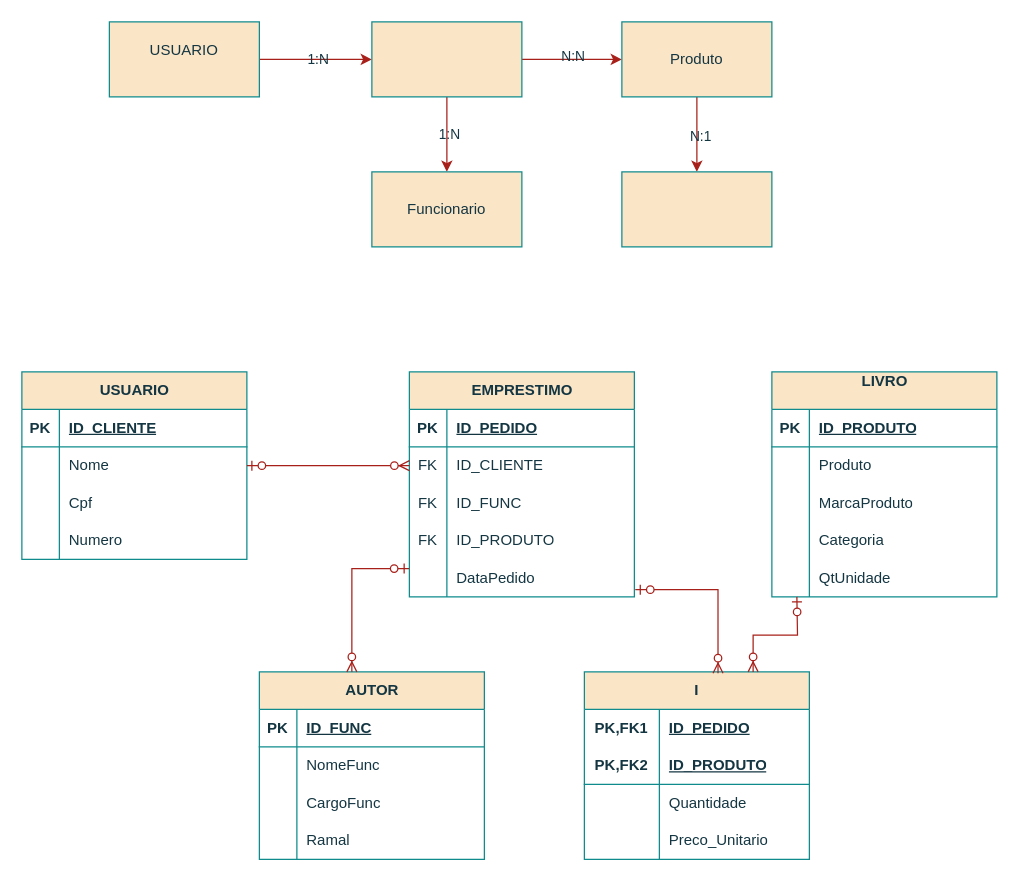
Image size: 1019x881. Some labels were removed from this diagram. The shapes that lost their labels are listed below. From the top down, each one's centre as x and y in pixels, then its label:
[446,59]: Pedido
[696,209]: Fornecedor
